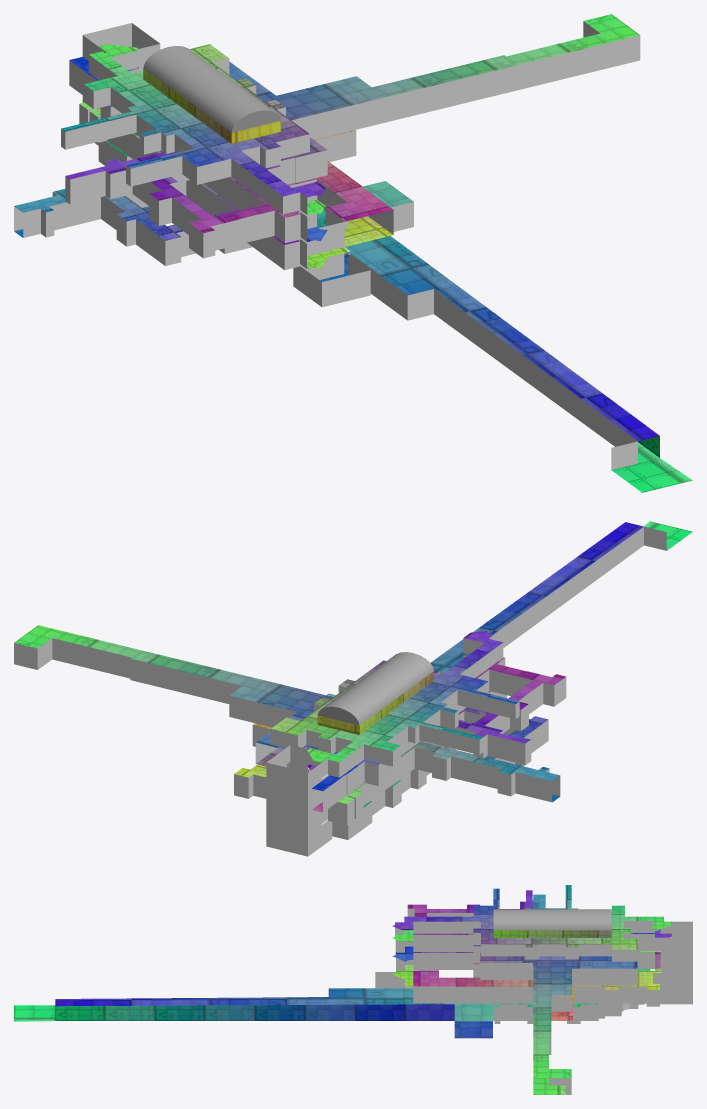
Rendered from CSBuildingStructure_Hite.fbx.
3 renders of one model, top to bottom at view 1: azimuth 30°, elevation 25°; view 2: azimuth 150°, elevation 25°; view 3: azimuth 270°, elevation 25°, orthographic. The views are drawn at different scales.
Parts seen in each view (by area): view 1: Floor7Roof, Floor7Walls, Floor6WallsPart5, Floor6Roof, Floor4WallsPart1, Floor4Roof, Floor6WallsPart2, Floor5WallsPart2, Floor5Roof, Floor4Floor, Floor5WallsPart6, Floor5Floor (+5 smaller); view 2: Floor7Roof, Floor7Walls, Floor6Roof, Floor5WallsPart1, Floor6WallsPart6, Floor4WallsPart1, Floor6WallsPart2, Floor4Roof, Floor5Roof, Floor6WallsPart1, Floor4Floor, Floor6WallsPart4 (+1 smaller); view 3: Floor7Roof, Floor4WallsPart2, Floor6Roof, Floor4Roof, Floor7Walls, Floor4WallsPart1, Floor5WallsPart1, Floor5WallsPart5, Floor5Roof, Floor6WallsPart5, Floor6WallsPart6, Floor4Floor (+5 smaller).
Part boxes in pixels (bbox=[...]): Floor7Roof: bbox=[61, 44, 325, 197]; Floor7Walls: bbox=[61, 23, 317, 214]; Floor6WallsPart5: bbox=[267, 35, 640, 228]; Floor6Roof: bbox=[66, 14, 639, 232]; Floor4WallsPart1: bbox=[94, 141, 637, 446]; Floor4Roof: bbox=[106, 140, 659, 441]; Floor6WallsPart2: bbox=[65, 60, 307, 258]; Floor5WallsPart2: bbox=[23, 196, 306, 270]; Floor5Roof: bbox=[14, 102, 393, 244]; Floor4Floor: bbox=[319, 252, 692, 492]; Floor5WallsPart6: bbox=[289, 179, 347, 255]; Floor5Floor: bbox=[14, 216, 392, 268]; Floor7Roof: bbox=[270, 631, 519, 762]; Floor7Walls: bbox=[266, 635, 519, 787]; Floor6Roof: bbox=[14, 625, 565, 791]; Floor5WallsPart1: bbox=[234, 725, 552, 833]; Floor6WallsPart6: bbox=[14, 638, 296, 763]; Floor4WallsPart1: bbox=[266, 527, 643, 856]; Floor6WallsPart2: bbox=[323, 658, 566, 812]; Floor4Roof: bbox=[266, 522, 643, 835]; Floor5Roof: bbox=[234, 670, 559, 812]; Floor6WallsPart1: bbox=[266, 764, 328, 810]; Floor4Floor: bbox=[644, 521, 692, 550]; Floor6WallsPart4: bbox=[452, 669, 532, 718]; Floor7Roof: bbox=[392, 885, 671, 949]; Floor4WallsPart2: bbox=[55, 1004, 454, 1020]; Floor6Roof: bbox=[407, 890, 692, 1077]; Floor4Roof: bbox=[55, 969, 692, 1021]; Floor7Walls: bbox=[395, 921, 692, 961]; Floor4WallsPart1: bbox=[375, 972, 692, 1023]; Floor5WallsPart1: bbox=[573, 969, 692, 1006]; Floor5WallsPart5: bbox=[413, 986, 533, 1003]; Floor5Roof: bbox=[413, 894, 692, 1003]; Floor6WallsPart5: bbox=[413, 935, 533, 979]; Floor6WallsPart6: bbox=[549, 968, 637, 1094]; Floor4Floor: bbox=[14, 1005, 492, 1038].
Size of the model in its own units: 4099 by 798 by 5838.
